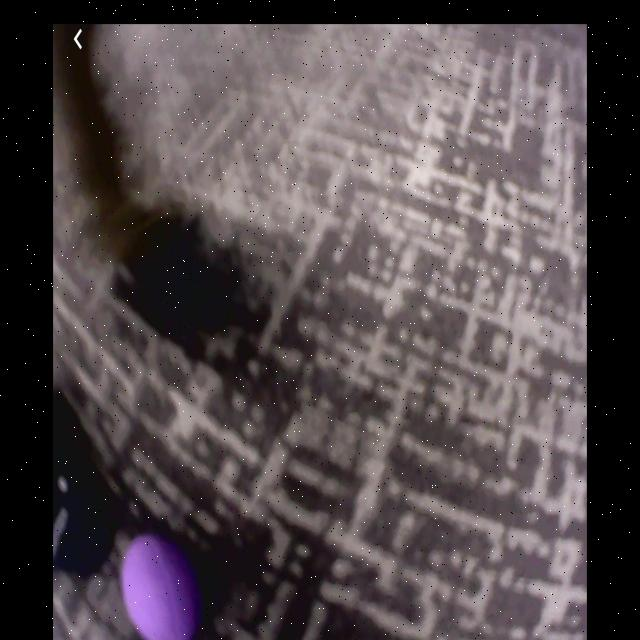ball: (123, 536, 199, 640)
